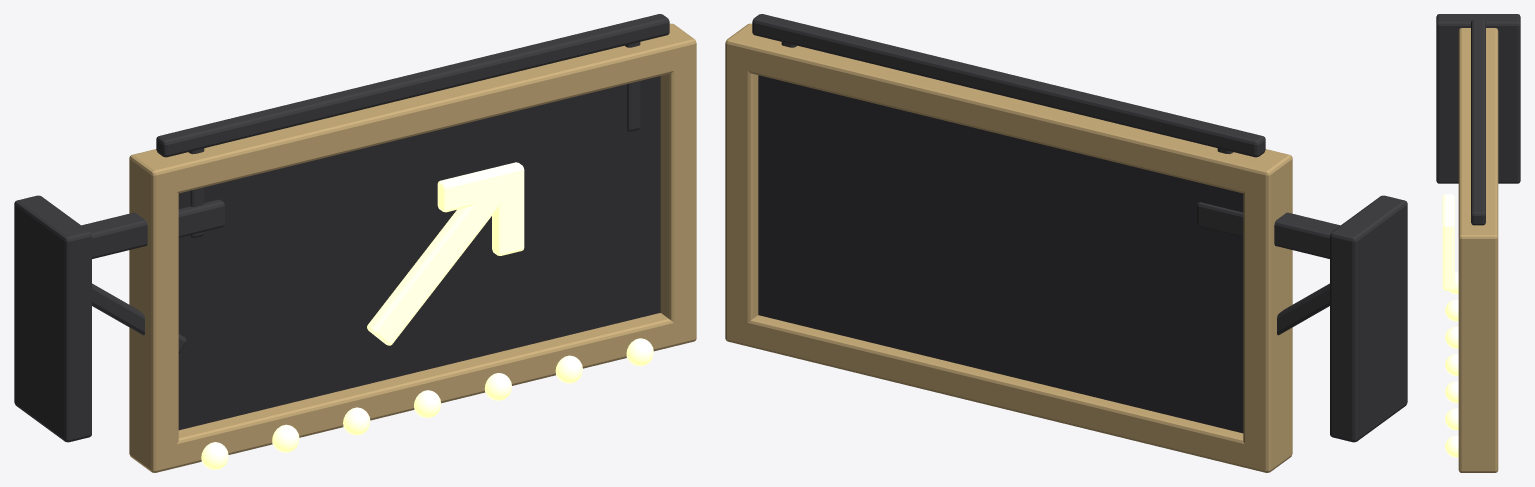
The model's file is placa.glb.
3 views of the same model, side by side, from view 1: azimuth 30°, elevation 25°; view 2: azimuth 150°, elevation 25°; view 3: azimuth 270°, elevation 25° (orthographic). The views are drawn at different scales.
Visible parts, largest first — view 1: Placa_face, Placa_moldura, Placa_suporte, Placa_marca, Placa_luzes; view 2: Placa_face, Placa_moldura, Placa_suporte; view 3: Placa_moldura, Placa_suporte, Placa_luzes, Placa_marca.
Part boxes in pixels (bbox=[...]): Placa_face: bbox=[178, 76, 660, 430]; Placa_moldura: bbox=[129, 23, 696, 472]; Placa_suporte: bbox=[14, 14, 669, 442]; Placa_marca: bbox=[367, 162, 524, 345]; Placa_luzes: bbox=[201, 338, 653, 469]; Placa_face: bbox=[758, 75, 1243, 433]; Placa_moldura: bbox=[725, 23, 1292, 472]; Placa_suporte: bbox=[752, 14, 1407, 442]; Placa_moldura: bbox=[1458, 28, 1498, 472]; Placa_suporte: bbox=[1436, 14, 1520, 225]; Placa_luzes: bbox=[1445, 272, 1458, 457]; Placa_marca: bbox=[1442, 194, 1454, 290].
Size of the model in its own units: 2.37 by 1.15 by 0.34.
